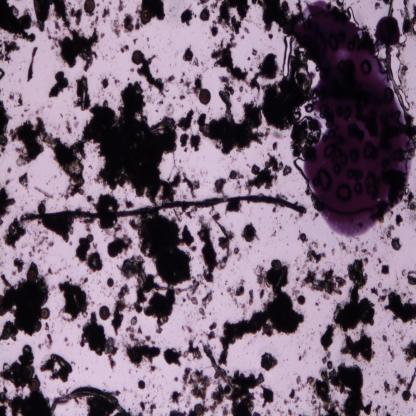Background material: (82, 85, 185, 200), (216, 259, 303, 362), (17, 115, 87, 199), (196, 88, 269, 148), (134, 215, 193, 284), (384, 5, 416, 129), (0, 261, 49, 338), (313, 359, 373, 415), (258, 66, 310, 126), (210, 41, 276, 86), (54, 29, 104, 72), (80, 314, 122, 362), (336, 286, 378, 331), (0, 1, 36, 47), (245, 157, 292, 190), (0, 386, 51, 416), (32, 0, 83, 30), (231, 372, 265, 414), (3, 347, 34, 390), (210, 3, 252, 34), (337, 330, 378, 361), (145, 294, 181, 328), (304, 271, 346, 300), (57, 280, 89, 318), (196, 225, 216, 285), (136, 60, 167, 96), (387, 290, 416, 326), (124, 341, 164, 366), (112, 286, 130, 336), (42, 356, 73, 384), (182, 369, 210, 399), (347, 257, 372, 288), (262, 3, 288, 32), (3, 221, 29, 250), (48, 69, 71, 100), (330, 242, 378, 256), (71, 232, 94, 260), (0, 100, 11, 158), (0, 183, 16, 221), (183, 174, 203, 202), (139, 0, 166, 20), (125, 326, 153, 345), (25, 48, 39, 85), (28, 236, 51, 258), (383, 374, 407, 394), (184, 72, 203, 97), (177, 108, 196, 132), (165, 347, 184, 371), (203, 392, 223, 414), (303, 246, 327, 264), (369, 280, 387, 303), (1, 39, 19, 62), (38, 331, 58, 351), (260, 352, 278, 374), (402, 341, 416, 367), (294, 373, 314, 391), (135, 399, 159, 414), (400, 266, 416, 286), (185, 342, 202, 360), (87, 253, 104, 271), (372, 401, 392, 416), (123, 15, 137, 35), (13, 253, 26, 274), (263, 384, 276, 405), (180, 7, 194, 26), (178, 133, 191, 152), (288, 388, 302, 405), (170, 389, 183, 407), (389, 236, 404, 250), (208, 320, 218, 340), (107, 350, 116, 372), (233, 284, 247, 298), (184, 48, 196, 64), (214, 178, 226, 194), (20, 172, 30, 191), (201, 290, 213, 305), (381, 264, 394, 277), (165, 103, 176, 118), (384, 344, 393, 362), (298, 228, 307, 245), (15, 91, 24, 107), (231, 244, 240, 260), (124, 197, 136, 209), (100, 75, 110, 89), (191, 134, 200, 149), (114, 17, 121, 36), (114, 1, 126, 12), (118, 43, 129, 55), (88, 18, 99, 30), (64, 121, 74, 134), (407, 199, 416, 213), (250, 47, 260, 59), (101, 7, 111, 19), (6, 86, 14, 101), (273, 139, 280, 156), (185, 326, 194, 338), (169, 408, 187, 414), (163, 76, 176, 84), (131, 316, 139, 329), (138, 380, 146, 393), (111, 76, 121, 86), (382, 334, 390, 346), (62, 335, 70, 347), (199, 305, 207, 316), (395, 214, 403, 225), (80, 275, 88, 286), (48, 269, 60, 276), (222, 406, 230, 416), (288, 405, 294, 416), (190, 297, 198, 305), (267, 33, 275, 41), (0, 70, 5, 82), (150, 366, 158, 373), (5, 178, 12, 186), (5, 166, 12, 173), (173, 376, 179, 384), (132, 36, 138, 44), (388, 231, 392, 240), (180, 94, 185, 100), (130, 70, 134, 74)
Cellulose filter fibre: (123, 261, 202, 296), (49, 384, 132, 413), (202, 344, 248, 395), (215, 218, 231, 270), (226, 170, 238, 183)
Cotton: (15, 195, 309, 224)
Diatom: (106, 239, 125, 258), (243, 223, 257, 242), (319, 333, 334, 349), (199, 88, 212, 106), (140, 7, 152, 26), (82, 0, 96, 13), (30, 377, 42, 392), (100, 305, 110, 322), (22, 367, 34, 381), (200, 10, 212, 23), (192, 402, 204, 415), (271, 259, 282, 273), (133, 51, 143, 64), (107, 277, 117, 290), (297, 294, 306, 306), (42, 307, 50, 320), (402, 392, 411, 403)
Pen: (289, 2, 411, 237)
